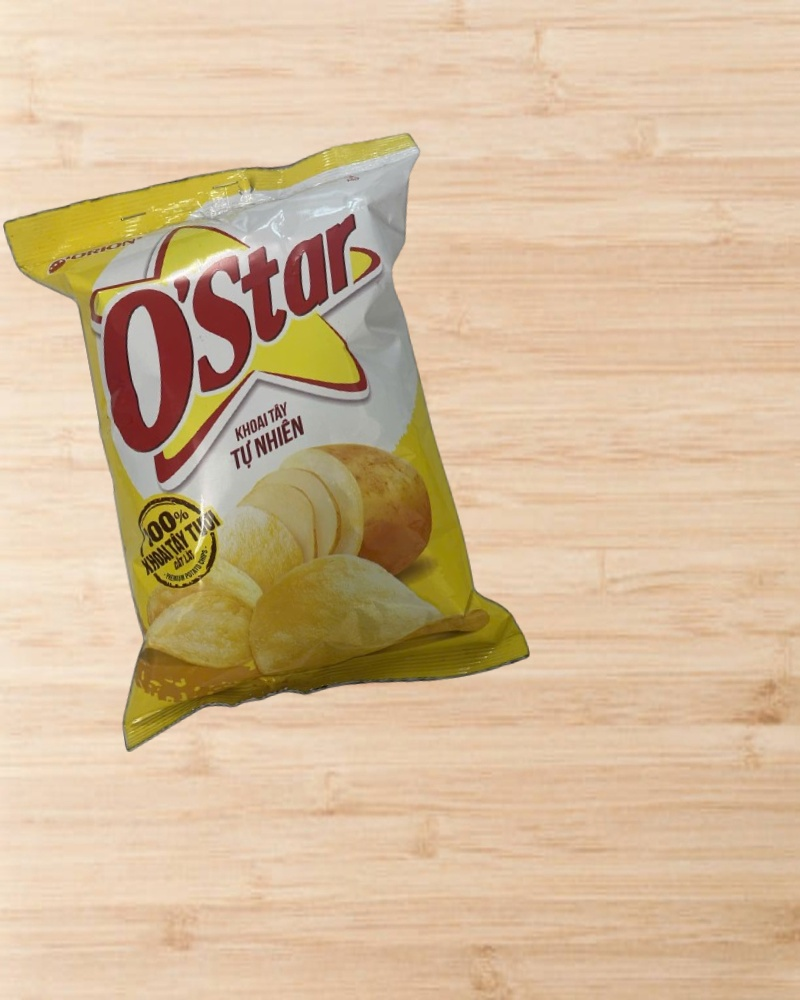O'star: (2, 128, 534, 757)
